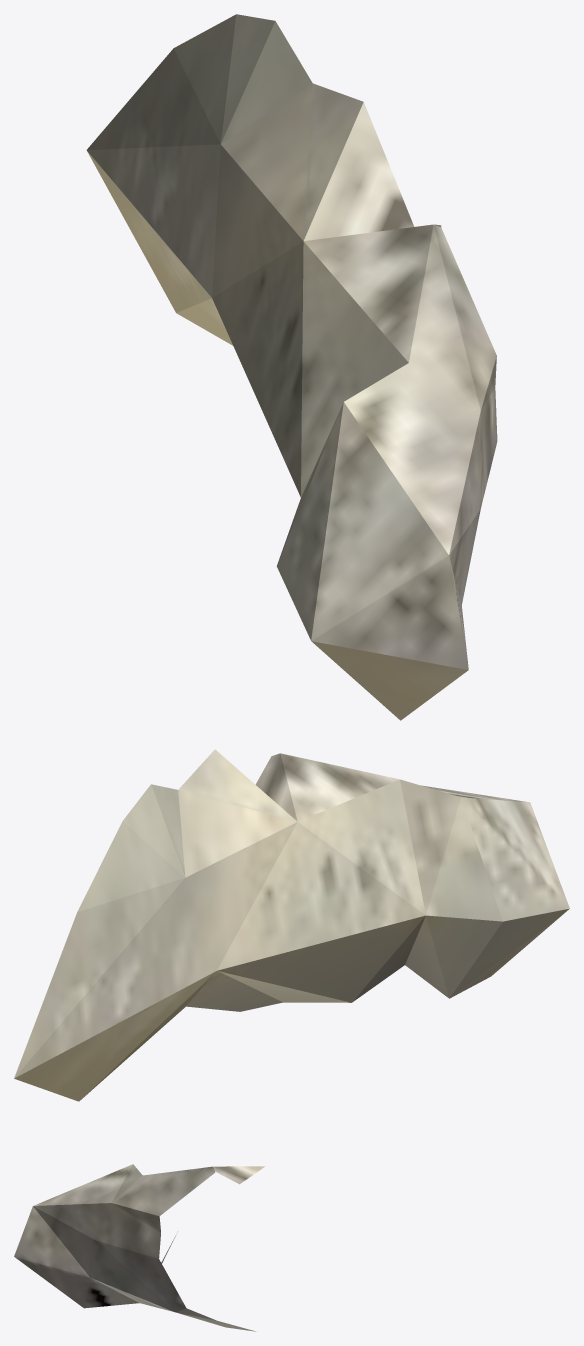
3 renders of one model, top to bottom at view 1: azimuth 30°, elevation 25°; view 2: azimuth 150°, elevation 25°; view 3: azimuth 270°, elevation 25°, orthographic. The views are drawn at different scales.
Size of the model in its own units: 0.0765 by 0.1189 by 0.2719.
Materials: 1 (1 with a texture image).
